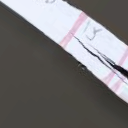crackTip: (68, 29, 128, 87)
